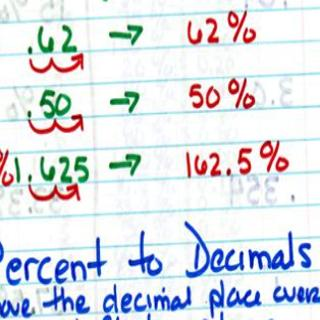.: (24, 43, 34, 56), (223, 167, 233, 180), (24, 108, 33, 118)
0: (203, 82, 221, 110), (55, 90, 72, 117)
1: (181, 147, 193, 179)
2: (58, 24, 81, 54), (203, 16, 224, 45), (206, 146, 222, 180)
5: (236, 144, 256, 177), (36, 88, 56, 119), (186, 82, 203, 109)
6: (33, 24, 59, 54), (184, 19, 204, 48), (194, 152, 208, 177)
